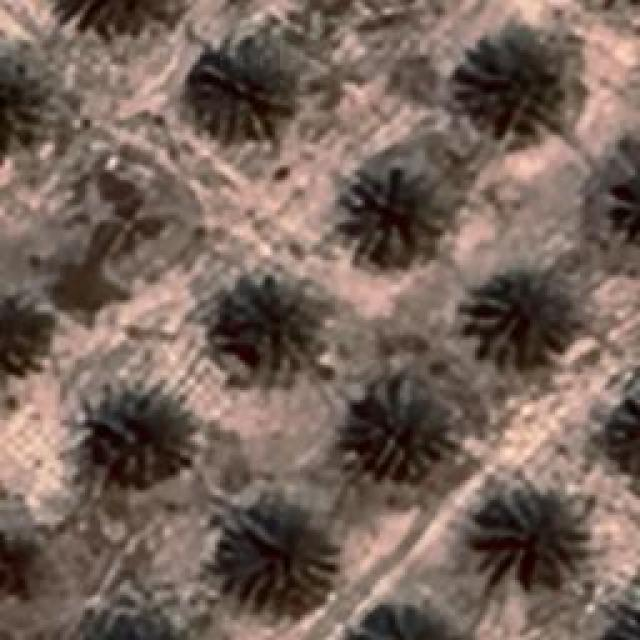PalmTree: (452, 24, 568, 148), (218, 502, 340, 608), (212, 268, 320, 380), (334, 162, 448, 268), (460, 262, 570, 368), (470, 490, 582, 590), (350, 380, 455, 480), (90, 385, 195, 485), (188, 48, 290, 142), (44, 0, 194, 38), (0, 42, 48, 156), (584, 377, 638, 475), (587, 148, 640, 246), (65, 602, 196, 640), (0, 287, 55, 375), (355, 600, 460, 638), (0, 518, 40, 612), (607, 576, 640, 635)
